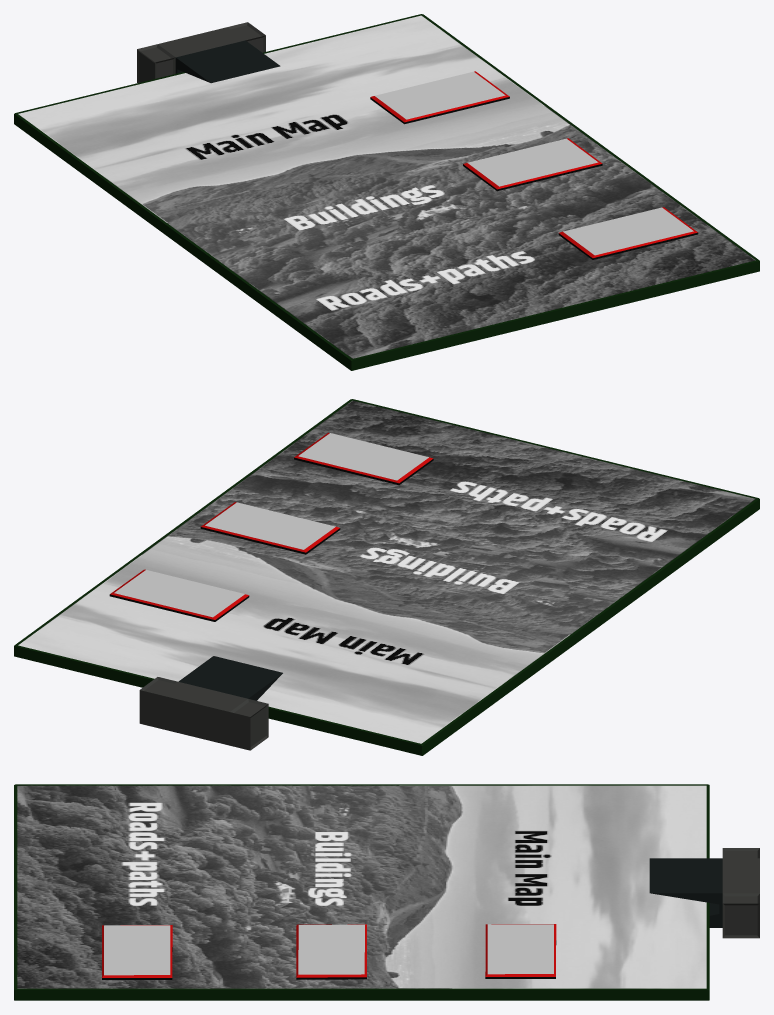
Rendered from clip_main.obj.
The picture shows the model from 3 angles, top to bottom: view 1: azimuth 30°, elevation 25°; view 2: azimuth 150°, elevation 25°; view 3: azimuth 270°, elevation 25°; orthographic projection. The views are drawn at different scales.
Visible parts, largest first — view 1: clip_main_clipboard_house.001; view 2: clip_main_clipboard_house.001; view 3: clip_main_clipboard_house.001.
Boxes of the visible parts, x1=… form: clip_main_clipboard_house.001: x1=14, y1=14, x2=759, y2=370; clip_main_clipboard_house.001: x1=14, y1=399, x2=759, y2=755; clip_main_clipboard_house.001: x1=14, y1=784, x2=759, y2=1000.
Size of the model in its own units: 0.2144 by 0.0169 by 0.3289.
Materials: 13 (1 with a texture image).
